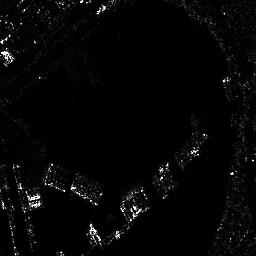ship: (70, 180, 99, 204)
